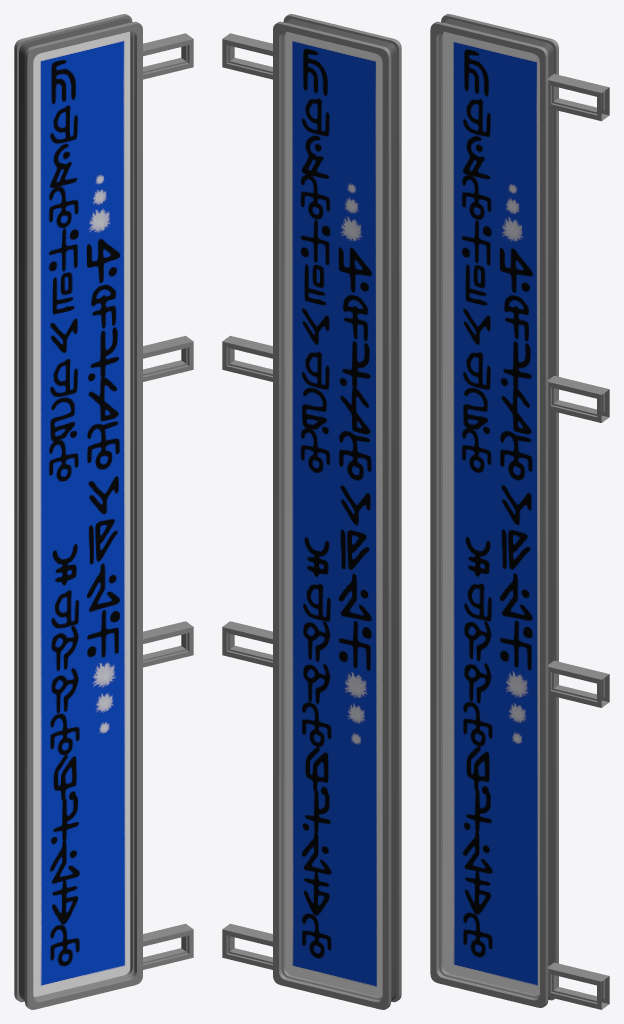
3 views of the same model, side by side, from view 1: azimuth 30°, elevation 25°; view 2: azimuth 150°, elevation 25°; view 3: azimuth 330°, elevation 25° (orthographic).
Parts seen in each view (by area): view 1: MS_8M_1; view 2: MS_8M_1; view 3: MS_8M_1.
Part boxes in pixels (<box>): MS_8M_1: <box>14,14,193,1009</box>; MS_8M_1: <box>222,14,401,1009</box>; MS_8M_1: <box>430,14,609,1009</box>.
Bounding box in the file's own units: 147 × 800 × 19.93.
